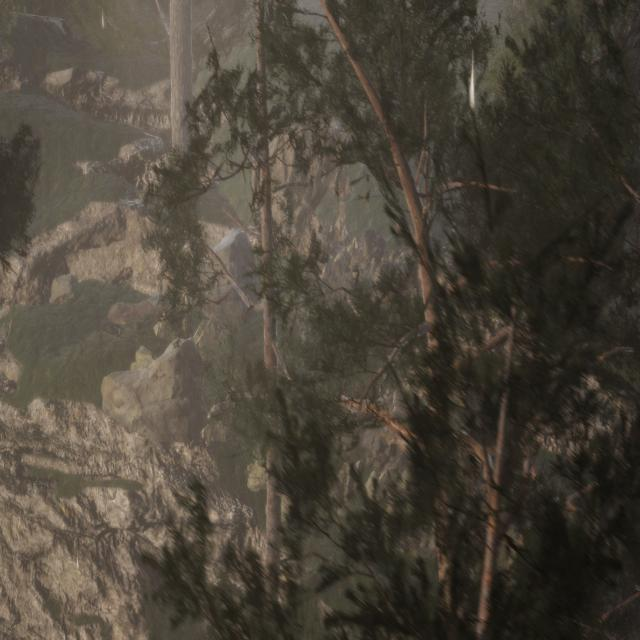Human: (131, 252, 171, 316)
